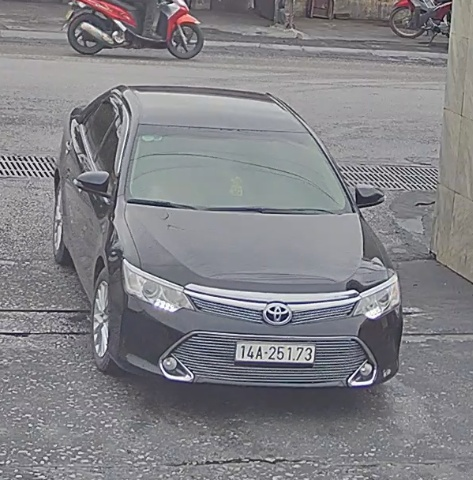vehicle plate: (232, 334, 324, 365)
